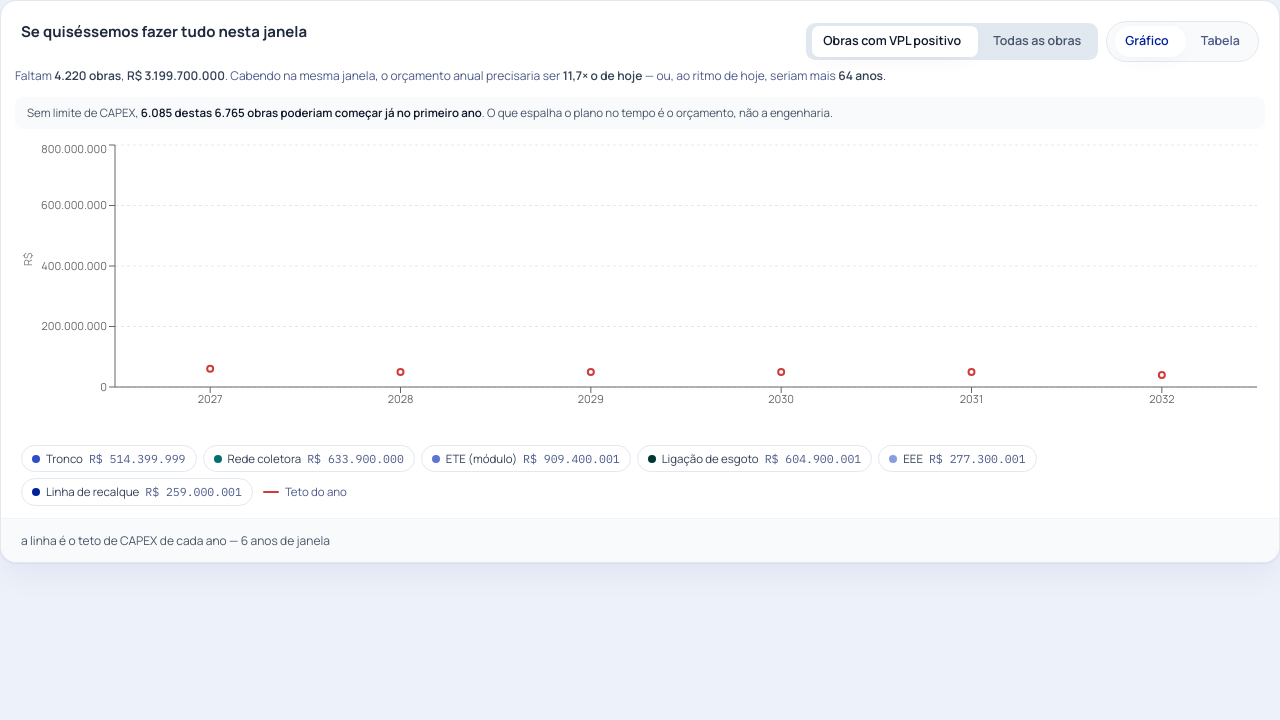
Test: as obras de uma fatia › o chip abre a janela inteira do tipo, no escopo escolhido
Click the button "Tronco R$ 514.399.999".
click(109, 459)  # box [21, 445, 196, 472]
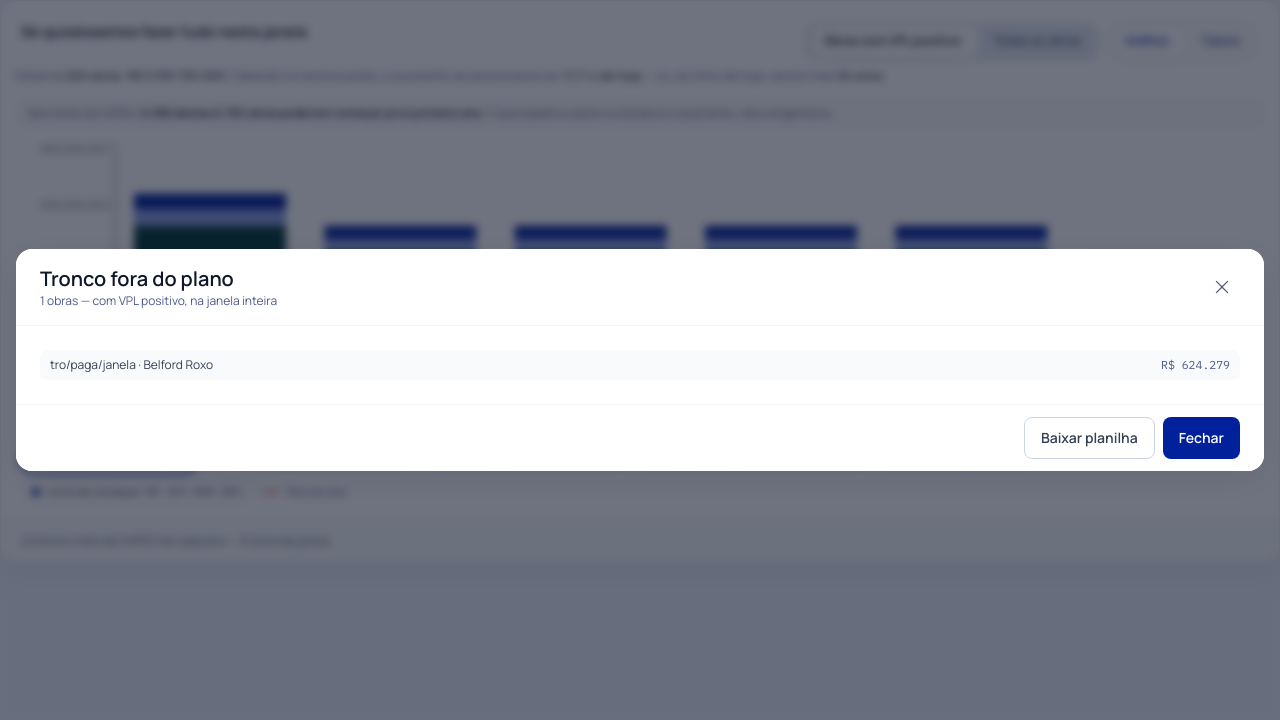
Check: the heading "Tronco fora do plano" is shown, box [40, 265, 234, 292]
Check: the text "tro/paga/janela · Belford Roxo" is shown, box [50, 356, 213, 374]
Check: the text "1 obras — com VPL positivo, na janela inteira" is shown, box [40, 293, 277, 309]
